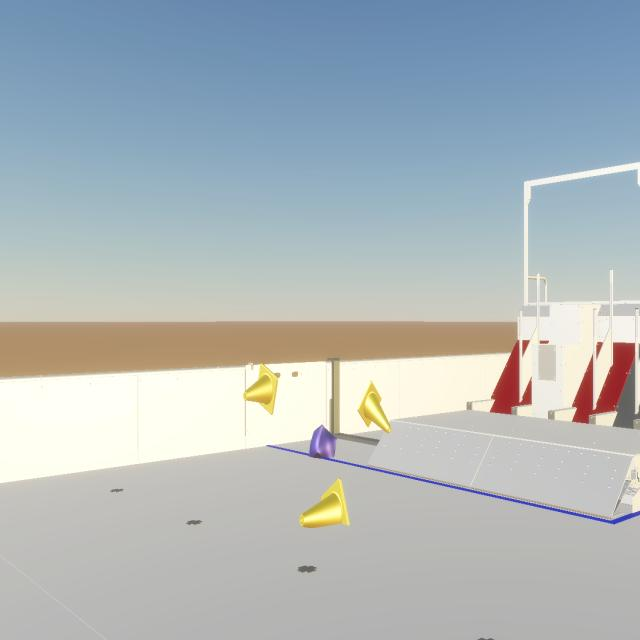frc_cone: (299, 478, 350, 528), (358, 380, 392, 434), (243, 363, 278, 415)
frc_cube: (308, 424, 336, 459)
